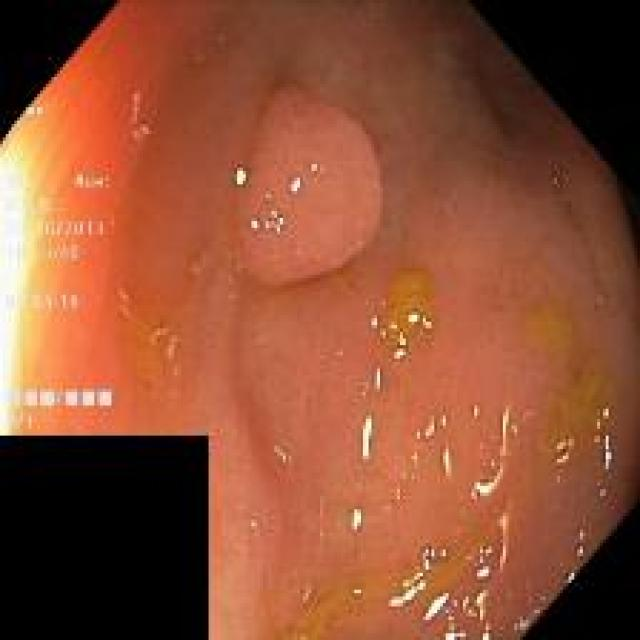Polyps: (236, 85, 382, 287)
